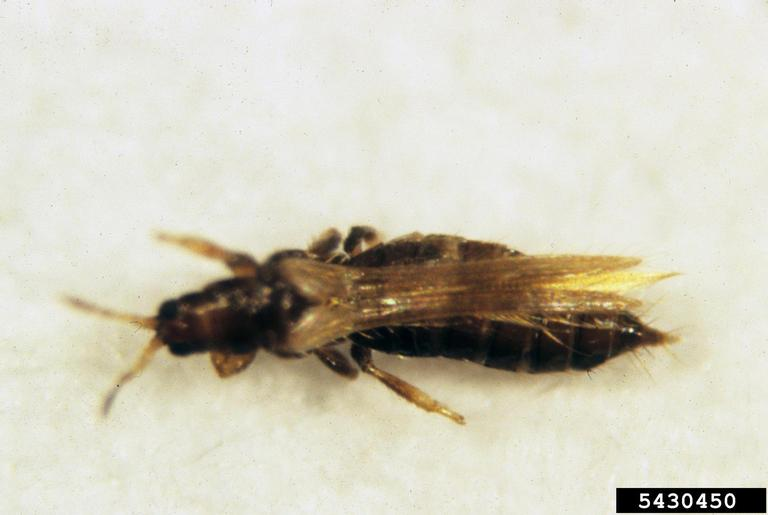Thrips: (83, 206, 696, 440)
